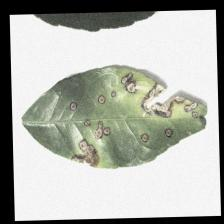canker: (52, 68, 213, 174)
